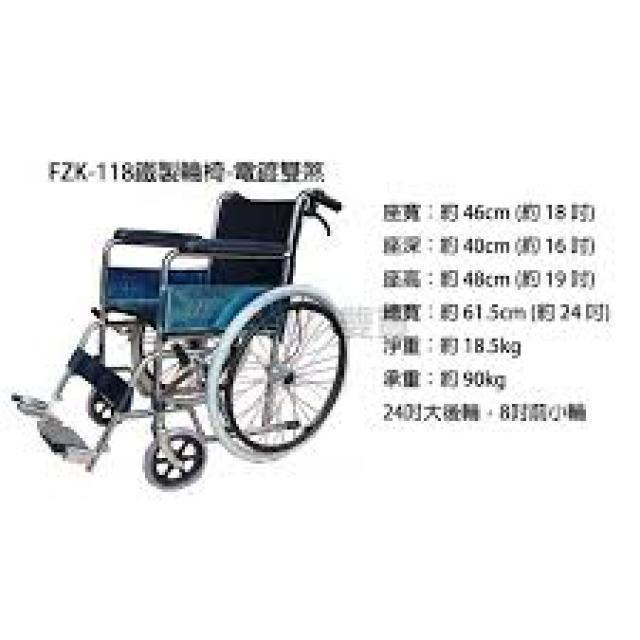wheelchair: (5, 179, 352, 498)
